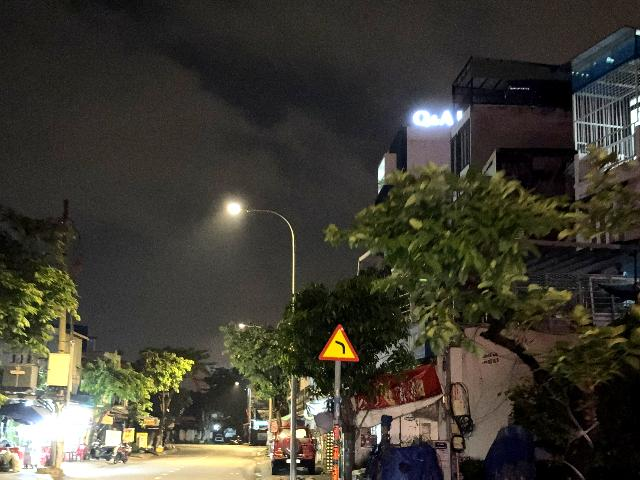cho-ngoat-nguy-hiem-ben-trai: (318, 323, 358, 362)
